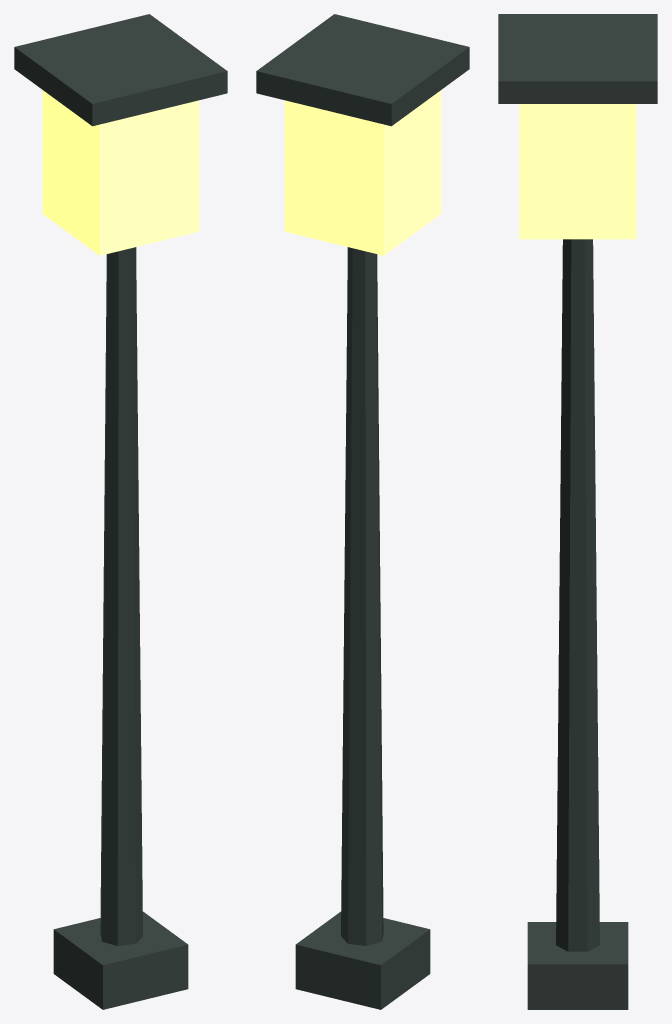
File: cuncun_lamp.glb
The picture shows the model from 3 angles, left to right: view 1: azimuth 30°, elevation 25°; view 2: azimuth 150°, elevation 25°; view 3: azimuth 270°, elevation 25°; orthographic projection. The views are drawn at different scales.
Parts seen in each view (by area): view 1: lamp.001; view 2: lamp.001; view 3: lamp.001.
Boxes of the visible parts, x1,y1,x2,y2 form: lamp.001: (14, 14, 227, 1009); lamp.001: (256, 14, 469, 1009); lamp.001: (498, 14, 657, 1009).
Size of the model in its own units: 0.38 by 2.48 by 0.38.
